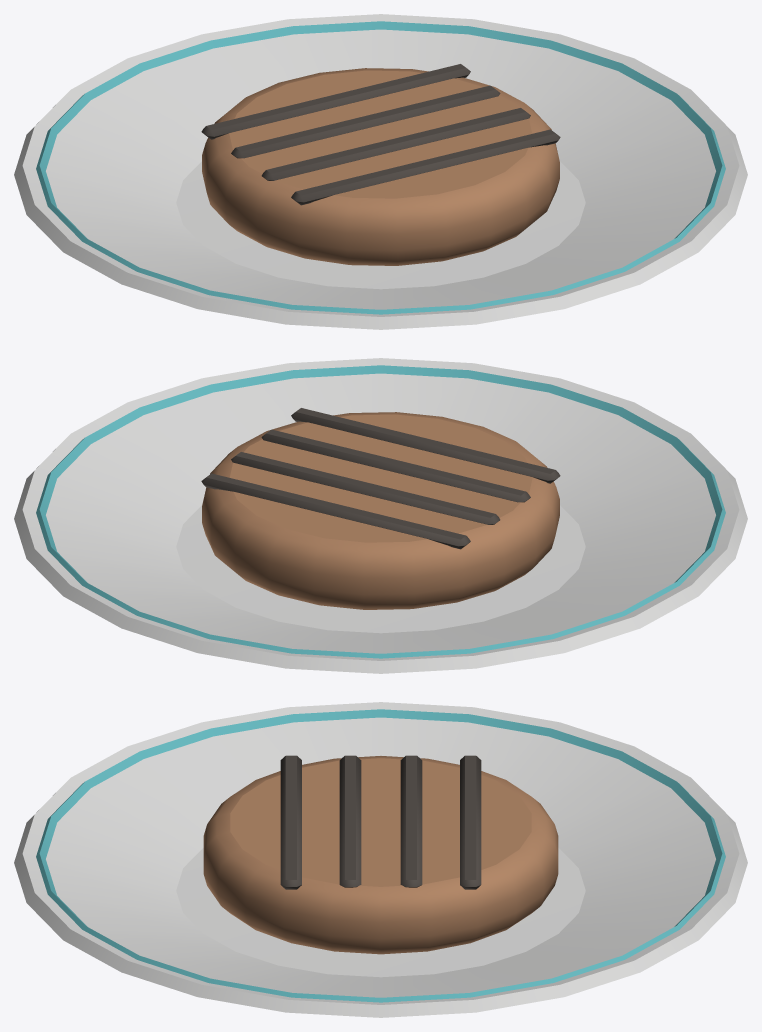
The model's file is kr_dish_patty.glb.
3 views of the same model, one above another, from view 1: azimuth 30°, elevation 25°; view 2: azimuth 150°, elevation 25°; view 3: azimuth 270°, elevation 25° (orthographic).
Parts seen in each view (by area): view 1: vc_m0_r2, vc_m0_r6, vc_m0_r8, vc_m0_r4; view 2: vc_m0_r2, vc_m0_r6, vc_m0_r8, vc_m0_r4; view 3: vc_m0_r2, vc_m0_r6, vc_m0_r4, vc_m0_r8.
Part boxes in pixels (bbox=[...]): vc_m0_r2: bbox=[14, 14, 747, 329]; vc_m0_r6: bbox=[202, 68, 559, 265]; vc_m0_r8: bbox=[201, 64, 560, 205]; vc_m0_r4: bbox=[36, 21, 725, 314]; vc_m0_r2: bbox=[14, 358, 747, 673]; vc_m0_r6: bbox=[202, 412, 559, 609]; vc_m0_r8: bbox=[201, 408, 560, 549]; vc_m0_r4: bbox=[36, 365, 725, 658]; vc_m0_r2: bbox=[14, 702, 747, 1017]; vc_m0_r6: bbox=[203, 756, 558, 954]; vc_m0_r4: bbox=[36, 709, 725, 1002]; vc_m0_r8: bbox=[280, 755, 481, 889].
Size of the model in its own units: 0.43 by 0.0652 by 0.43.
